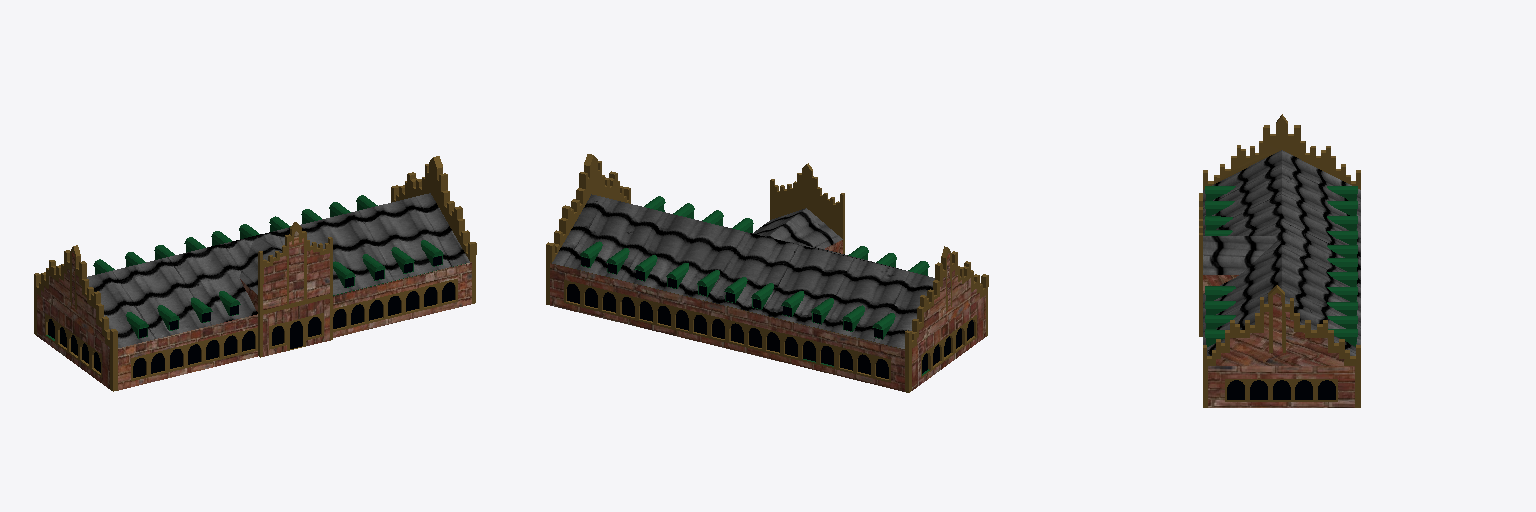
3 views of the same model, side by side, from view 1: azimuth 30°, elevation 25°; view 2: azimuth 150°, elevation 25°; view 3: azimuth 270°, elevation 25° (orthographic).
Parts seen in each view (by area): view 1: Cube.018_Cube.019; view 2: Cube.018_Cube.019; view 3: Cube.018_Cube.019.
Part boxes in pixels (x1,y1,x2,y2): Cube.018_Cube.019: (34,156,476,391); Cube.018_Cube.019: (546,154,988,392); Cube.018_Cube.019: (1199,114,1360,407).
Size of the model in its own units: 45.01 by 14.94 by 17.38.
Materials: 5 (2 with a texture image).